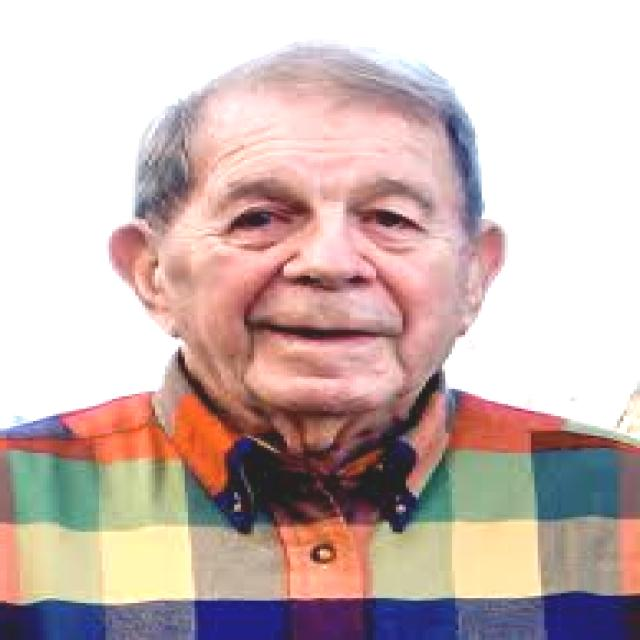normal_face: (111, 46, 497, 454)
